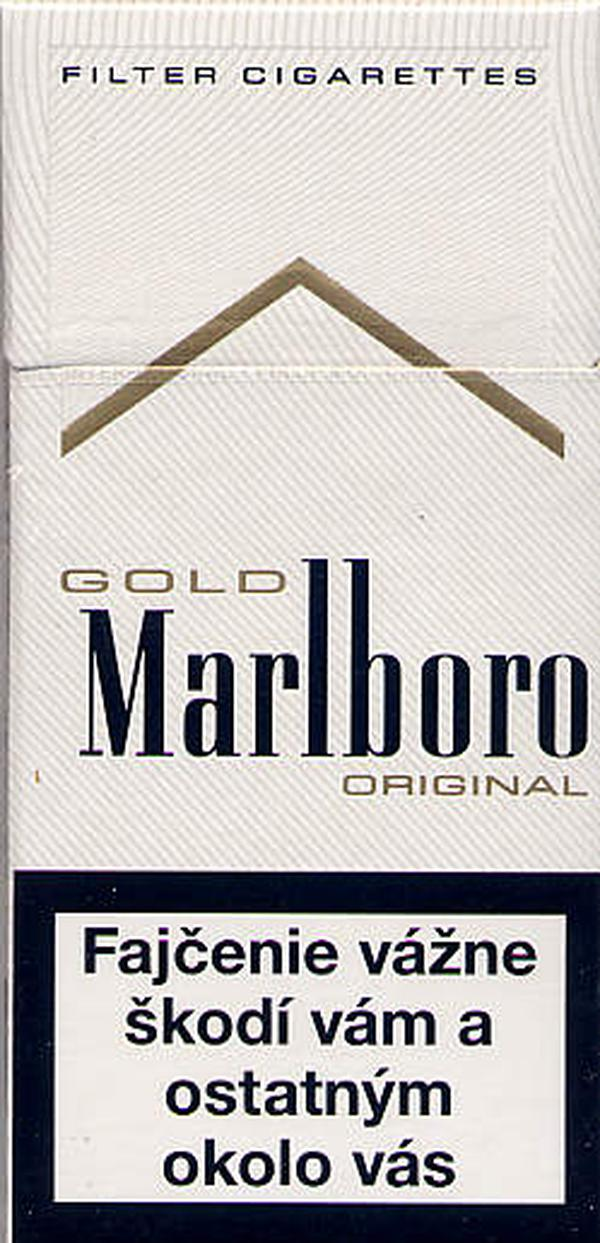marlboro_gold: (8, 13, 600, 1240)
